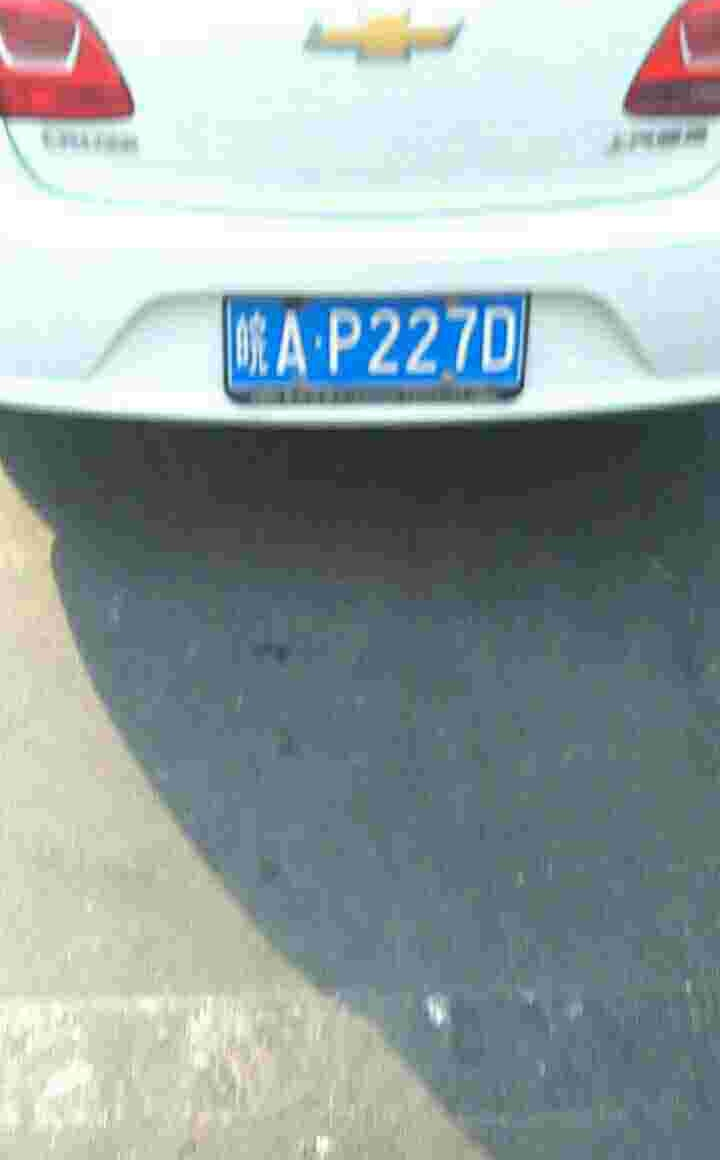license_plate: (225, 298, 528, 390)
